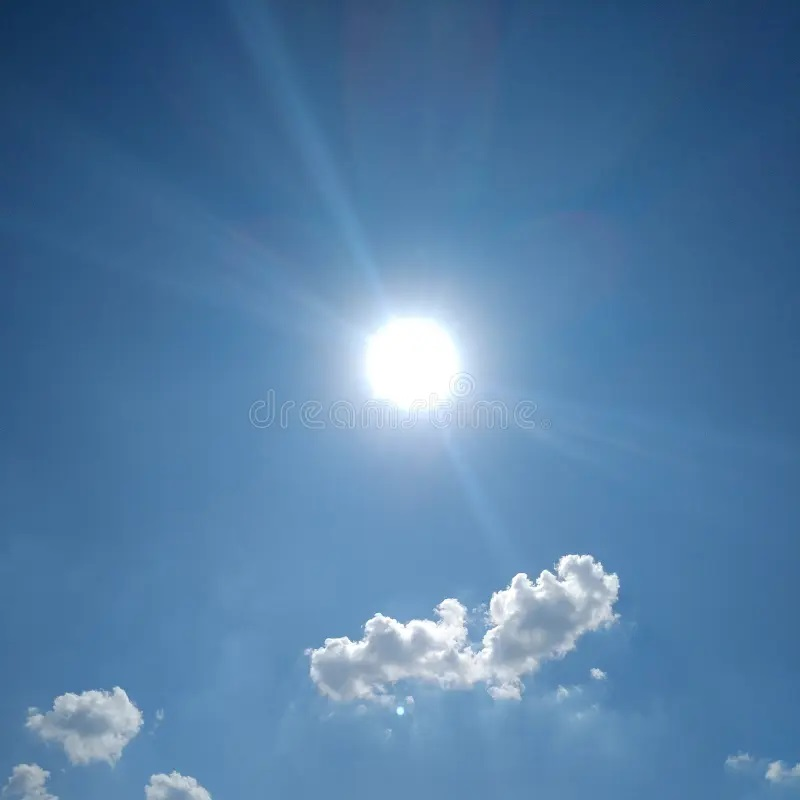sun: (334, 290, 482, 438)
